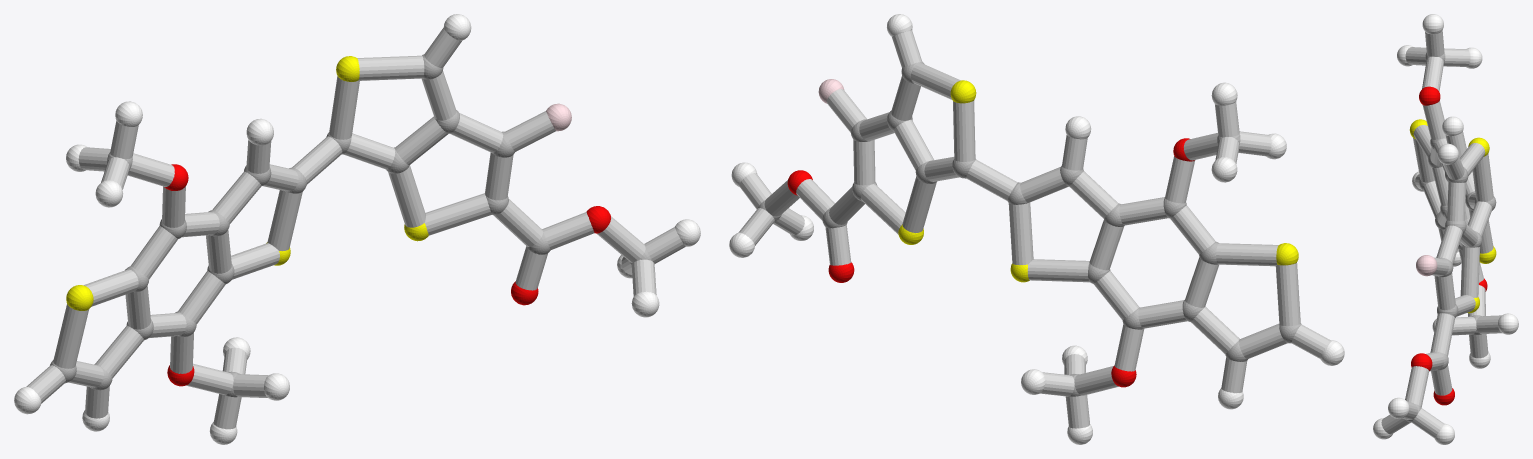
The model's file is Dimethoxy_Benzodithiophene_Phi_30_Theta_340_Methylcarbonyl_3_Fluoro_Thienothiophene.glb.
3 views of the same model, side by side, from view 1: azimuth 30°, elevation 25°; view 2: azimuth 150°, elevation 25°; view 3: azimuth 270°, elevation 25° (orthographic). The views are drawn at different scales.
Visible parts, largest first — view 1: grp15205, grp8689, grp1, grp13395, grp7241; view 2: grp15205, grp8689, grp1, grp7241, grp13395; view 3: grp15205, grp8689, grp1, grp13395, grp7241, grp14843.
Boxes of the visible parts, x1=… form: grp15205: x1=26, y1=28, x2=685, y2=429; grp8689: x1=14, y1=14, x2=700, y2=444; grp1: x1=50, y1=54, x2=651, y2=397; grp13395: x1=164, y1=164, x2=610, y2=386; grp7241: x1=66, y1=56, x2=428, y2=310; grp15205: x1=738, y1=30, x2=1330, y2=428; grp8689: x1=729, y1=14, x2=1344, y2=444; grp1: x1=758, y1=61, x2=1301, y2=396; grp7241: x1=898, y1=80, x2=1298, y2=282; grp13395: x1=787, y1=138, x2=1194, y2=387; grp15205: x1=1381, y1=30, x2=1502, y2=437; grp8689: x1=1373, y1=14, x2=1518, y2=444; grp1: x1=1405, y1=52, x2=1496, y2=422; grp13395: x1=1411, y1=86, x2=1487, y2=405; grp7241: x1=1409, y1=119, x2=1496, y2=313; grp14843: x1=1416, y1=255, x2=1437, y2=276.
Size of the model in its own units: 16.71 by 9.41 by 4.07.
